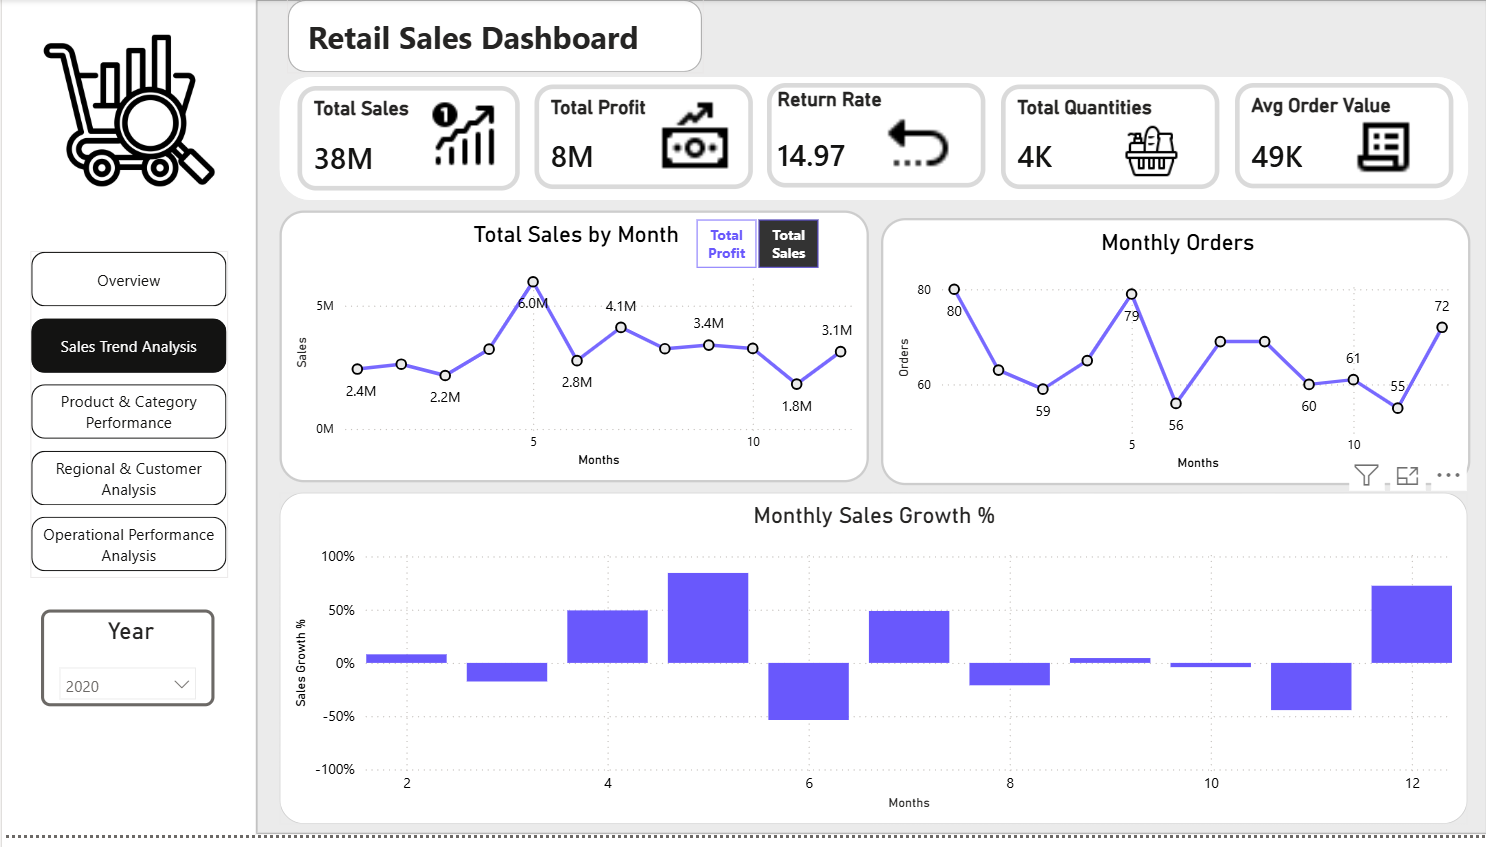

What the dashboard file says about the page in this screenshot:
{"tool":"powerbi","page":{"name":"Sales Trend Analysis","canvas":[1280,720],"ordinal":1},"visuals":[{"type":"shape","box":[218.6,0,1061.4,720],"z":0},{"type":"lineChart","fields":{"Category":["Calendar.Month Number"],"Y":["retail_Sales_data_clean.total_sales"]},"box":[238.9,182.1,507,233.7],"z":2000},{"type":"slicer","title":"Total Profit by m","fields":{"Values":["sales_metrics.sales_metrics"]},"box":[572,185.9,154.9,49.1],"z":3000},{"type":"shape","box":[245.7,0,358.6,64.3],"z":4000},{"type":"textbox","box":[258.6,8.6,328.6,45.7],"z":5000},{"type":"shape","box":[239.1,66.6,1023.2,105.9],"z":6000},{"type":"cardVisual","title":"Total Quantities","fields":{"Data":["retail_Sales_data_clean.total_quantity"]},"box":[860.1,74.2,188,90],"z":7000},{"type":"cardVisual","title":"Total Sales","fields":{"Data":["retail_Sales_data_clean.total_sales"]},"box":[255,74.3,191,90],"z":8000},{"type":"cardVisual","title":"Total Profit","fields":{"Data":["retail_Sales_data_clean.total_profit"]},"box":[458,73,188,90],"z":9000},{"type":"cardVisual","title":"Return Rate","fields":{"Data":["retail_Sales_data_clean.return_rate"]},"box":[659,72.7,188,90],"z":10000},{"type":"cardVisual","title":"Avg Order Value","fields":{"Data":["retail_Sales_data_clean.avg_order_value"]},"box":[1061.5,72.7,188,90.9],"z":11000},{"type":"image","box":[363.4,83.3,72.7,69.7],"z":12000},{"type":"image","box":[555,83.3,83,69.7],"z":13000},{"type":"image","box":[754.1,96.9,69.7,56],"z":14000},{"type":"image","box":[947,107.5,86,49],"z":15000},{"type":"image","box":[1155.3,99,69,56],"z":16000},{"type":"lineChart","title":"Monthly Orders","fields":{"Category":["retail_Sales_data_clean.month"],"Y":["retail_Sales_data_clean.total_orders"]},"box":[756.7,187.9,507,229.8],"z":17000},{"type":"clusteredColumnChart","title":"Monthly Sales Growth % ","fields":{"Category":["Calendar.Month Number"],"Y":["retail_Sales_data_clean.Monthly Sales Growth %"]},"box":[238.9,424.8,1022.6,285.4],"z":18000},{"type":"slicer","title":"Year","fields":{"Values":["Calendar.Year"]},"box":[34,525.4,149.3,83.2],"z":19000},{"type":"pageNavigator","box":[24.6,217.3,170.1,281.6],"z":19001},{"type":"image","box":[24.6,18.9,170.1,153.1],"z":19002}]}

Visuals, with their boxes in screenshot pixels (x1, y1, x2, y2), scaled from the page's 1280x720 canvas onto the 1486x847 screenshot:
shape: (left=254, top=0, right=1485, bottom=846)
lineChart - Calendar.Month Number x retail_Sales_data_clean.total_sales: (left=277, top=214, right=866, bottom=489)
"Total Profit by m" slicer: (left=664, top=219, right=844, bottom=276)
shape: (left=285, top=0, right=702, bottom=76)
textbox: (left=300, top=10, right=682, bottom=64)
shape: (left=278, top=78, right=1465, bottom=203)
"Total Quantities" cardVisual: (left=999, top=87, right=1217, bottom=193)
"Total Sales" cardVisual: (left=296, top=87, right=518, bottom=193)
"Total Profit" cardVisual: (left=532, top=86, right=750, bottom=192)
"Return Rate" cardVisual: (left=765, top=86, right=983, bottom=191)
"Avg Order Value" cardVisual: (left=1232, top=86, right=1451, bottom=192)
image: (left=422, top=98, right=506, bottom=180)
image: (left=644, top=98, right=741, bottom=180)
image: (left=875, top=114, right=956, bottom=180)
image: (left=1099, top=126, right=1199, bottom=184)
image: (left=1341, top=116, right=1421, bottom=182)
"Monthly Orders" lineChart: (left=878, top=221, right=1467, bottom=491)
"Monthly Sales Growth % " clusteredColumnChart: (left=277, top=500, right=1465, bottom=835)
"Year" slicer: (left=39, top=618, right=213, bottom=716)
pageNavigator: (left=29, top=256, right=226, bottom=587)
image: (left=29, top=22, right=226, bottom=202)
